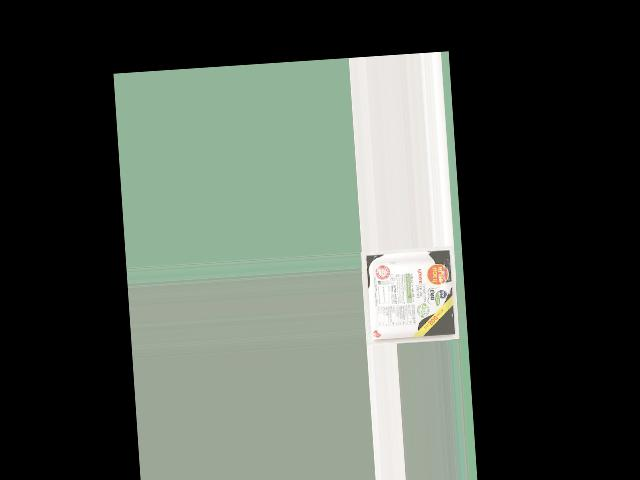cheese: (368, 249, 453, 344)
